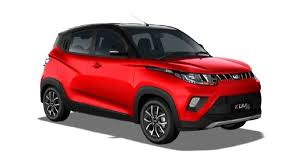car: (27, 21, 272, 155)
